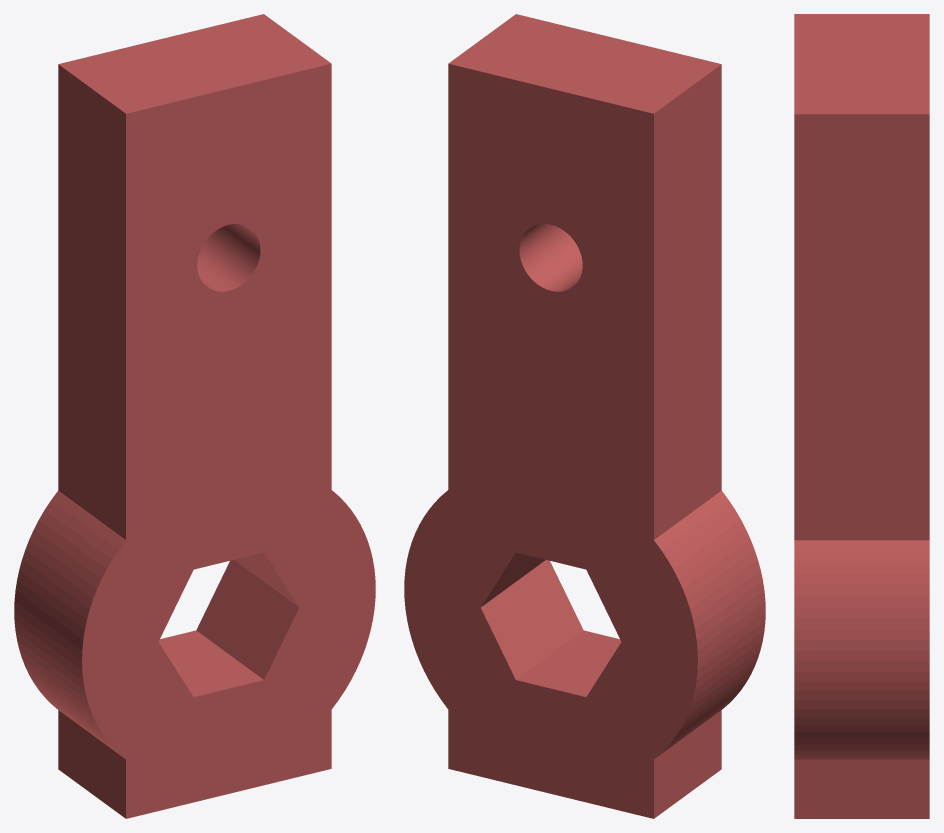
File: ali_manivela.glb
3 views of the same model, side by side, from view 1: azimuth 30°, elevation 25°; view 2: azimuth 150°, elevation 25°; view 3: azimuth 270°, elevation 25° (orthographic).
Parts seen in each view (by area): view 1: world; view 2: world; view 3: world.
Boxes of the visible parts, x1,y1,x2,y2 form: world: (14,14,375,818); world: (404,14,765,818); world: (794,14,929,818).
Bounding box in the file's own units: 20 × 45.88 × 8.
